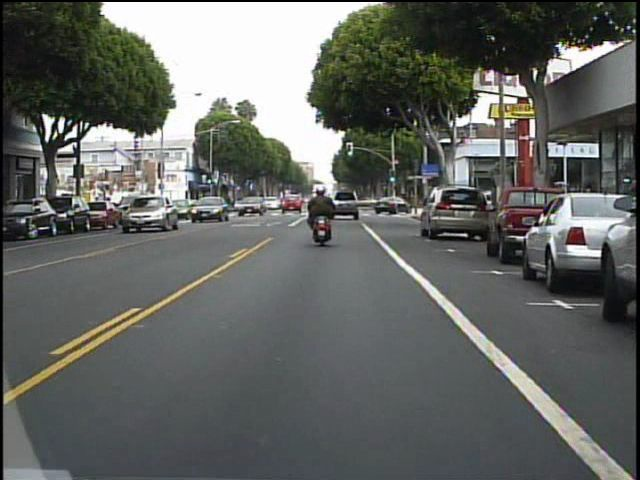person: (306, 180, 341, 243)
